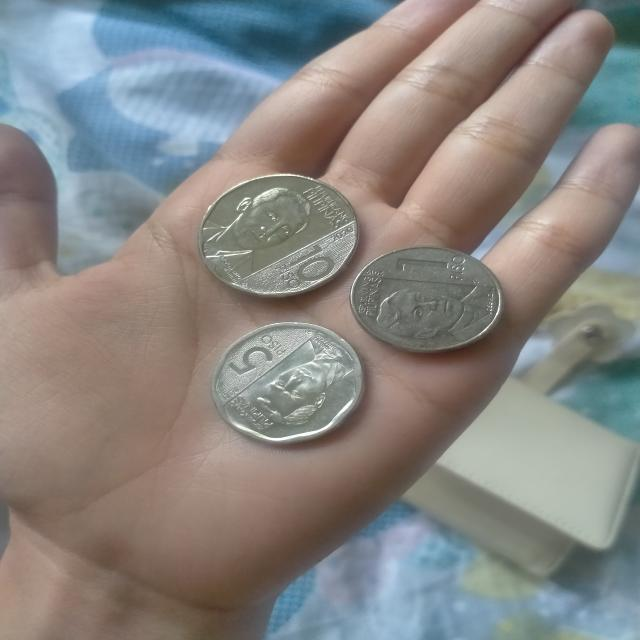10_New_Front: (205, 179, 341, 287)
1_New_Front: (379, 248, 484, 336)
5_New_Front: (226, 330, 350, 430)
